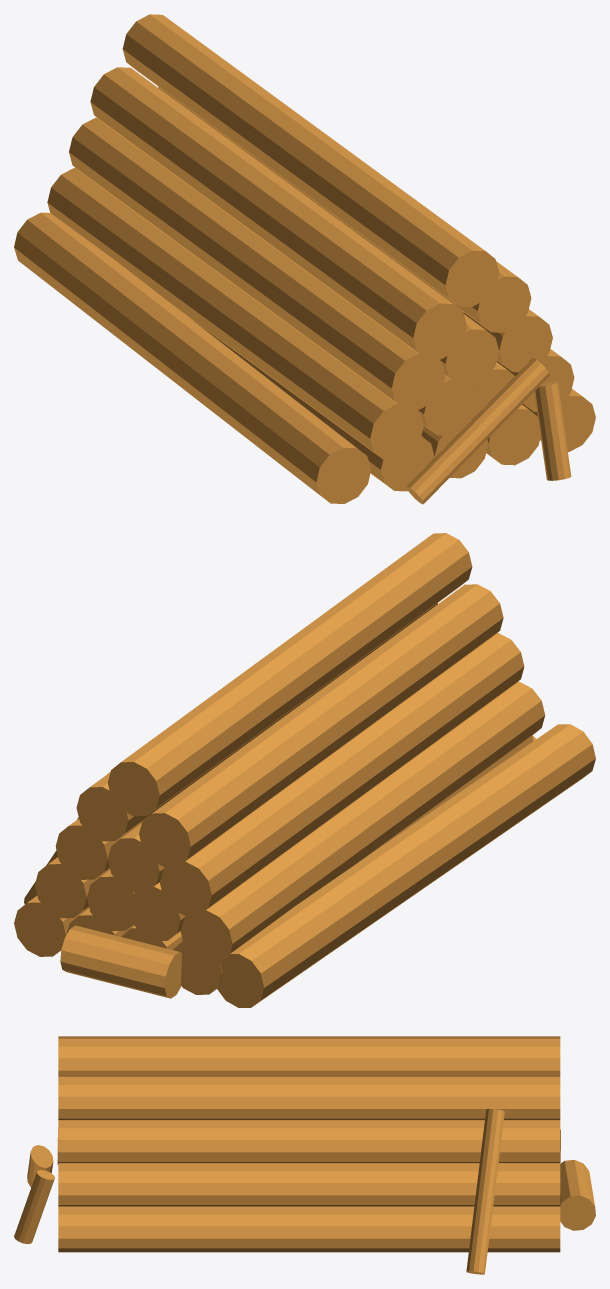
The model's file is LogPile.glb.
The picture shows the model from 3 angles, top to bottom: view 1: azimuth 30°, elevation 25°; view 2: azimuth 150°, elevation 25°; view 3: azimuth 270°, elevation 25°; orthographic projection. The views are drawn at different scales.
Visible parts, largest first — view 1: Node; view 2: Node; view 3: Node.
Part boxes in pixels (<box>): Node: <box>14,14,595,504</box>; Node: <box>14,533,595,1007</box>; Node: <box>14,1036,595,1274</box>.
Bounding box in the file's own units: 0.2982 × 0.2054 × 0.6028.
